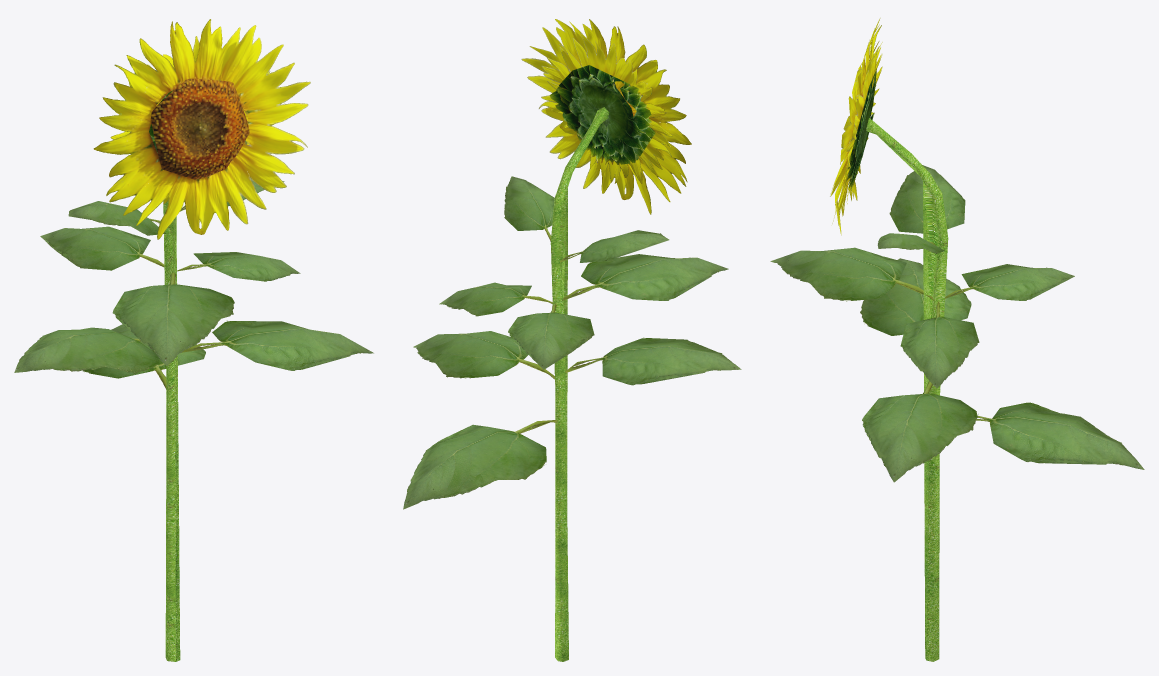
File: sunflower_edit-v2.glb
The picture shows the model from 3 angles, left to right: view 1: azimuth 30°, elevation 25°; view 2: azimuth 150°, elevation 25°; view 3: azimuth 270°, elevation 25°; orthographic projection. The views are drawn at different scales.
Visible parts, largest first — view 1: Object_2; view 2: Object_2; view 3: Object_2.
Part boxes in pixels (x1,y1,x2,y2): Object_2: (14,19,373,661); Object_2: (403,19,741,661); Object_2: (770,18,1144,661).
Bounding box in the file's own units: 0.9041 × 1.62 × 0.8773.
1 material, 1 textured.
